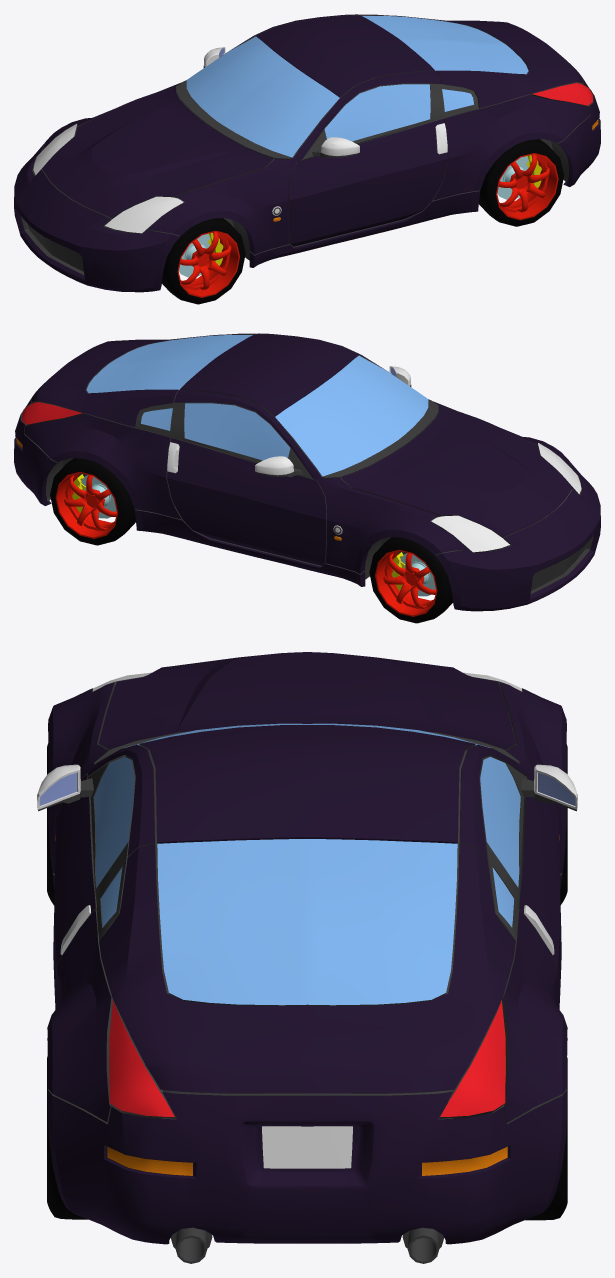
Rendered from arraba.fbx.
3 views of the same model, one above another, from view 1: azimuth 30°, elevation 25°; view 2: azimuth 150°, elevation 25°; view 3: azimuth 270°, elevation 25° (orthographic). The views are drawn at different scales.
Parts seen in each view (by area): view 1: car, SolArka, SağArka; view 2: car, SolÖn, SağÖn; view 3: car, exhaust, SolÖn, SolArka.
Boxes of the visible parts, left/top/right/bottom form: car: left=14, top=14, right=600, bottom=292; SolArka: left=479, top=139, right=563, bottom=226; SağArka: left=162, top=218, right=245, bottom=304; car: left=14, top=333, right=600, bottom=611; SolÖn: left=50, top=458, right=135, bottom=545; SağÖn: left=369, top=537, right=452, bottom=623; car: left=37, top=652, right=577, bottom=1244; exhaust: left=171, top=1227, right=443, bottom=1263; SolÖn: left=525, top=1057, right=567, bottom=1220; SolArka: left=47, top=1056, right=87, bottom=1219.
Bounding box in the file's own units: 645 × 192 × 285.
